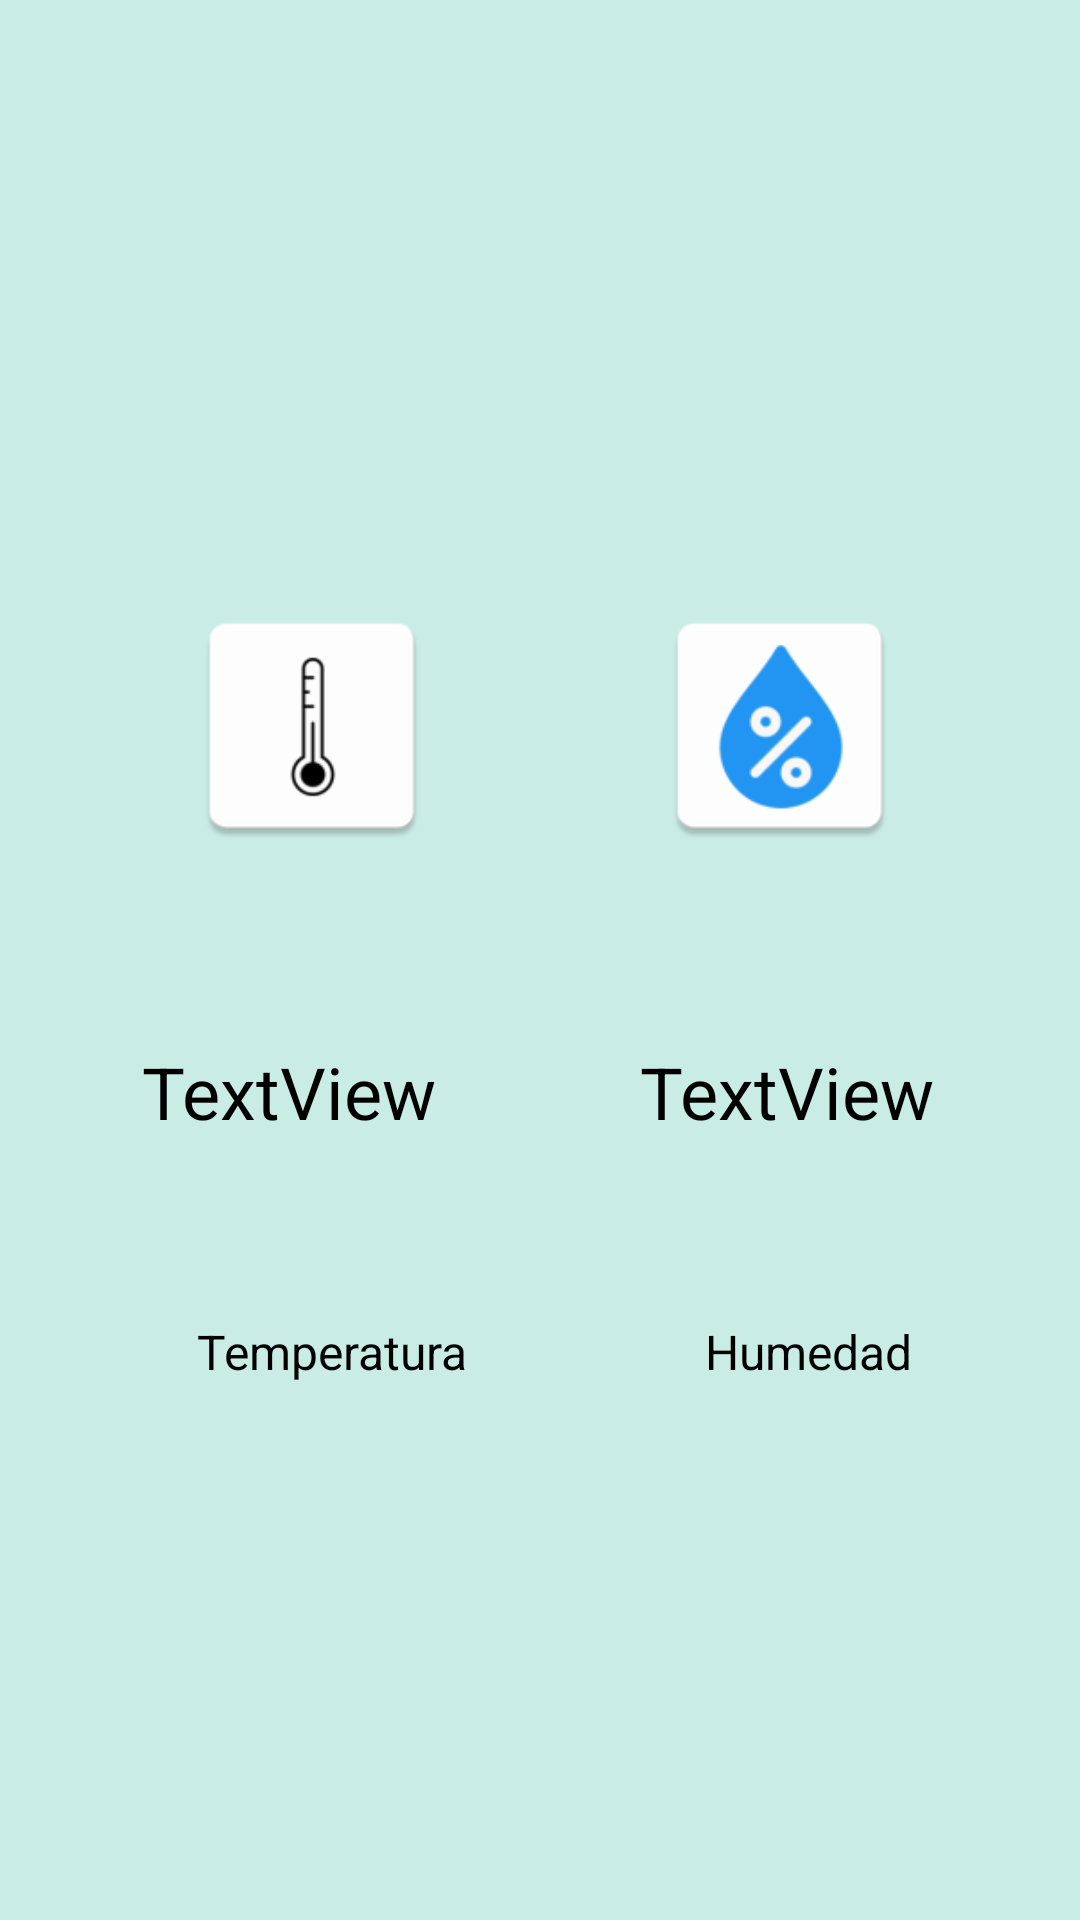

Locate icon controls on the screen. Image size 1080*1920, boxes as {"left": x1, "top": y1, "right": x2, "bottom": y2}.
humidity: {"left": 678, "top": 624, "right": 883, "bottom": 834}
temperature: {"left": 210, "top": 624, "right": 415, "bottom": 834}
